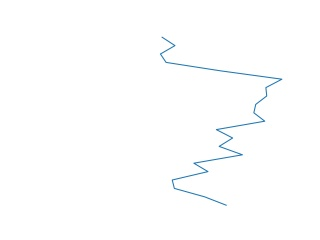floodPlain: (157, 34, 285, 208)
